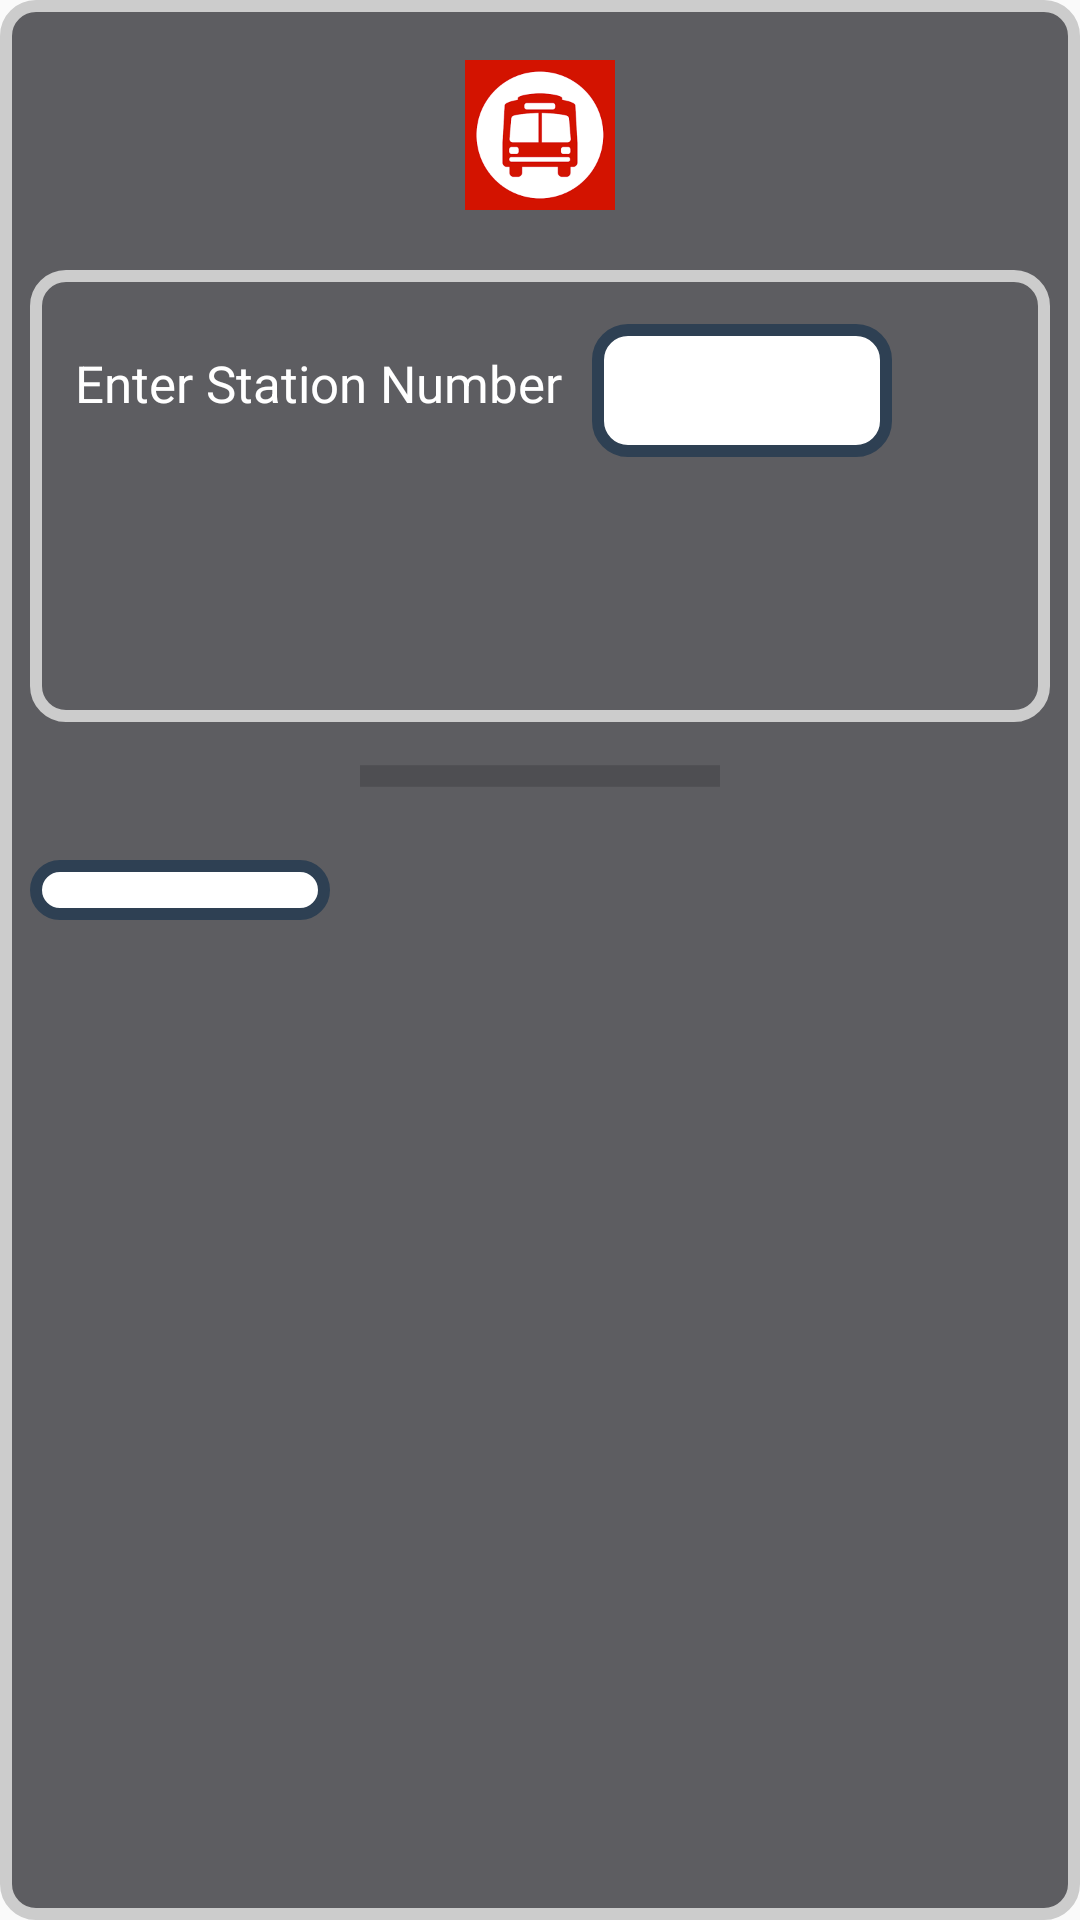

Icon bounding boxes for this 1080x1920 phone screenshot, format {"left": x1, "top": y1, "right": x2, "bottom": y2}:
bus: {"left": 465, "top": 60, "right": 615, "bottom": 210}
